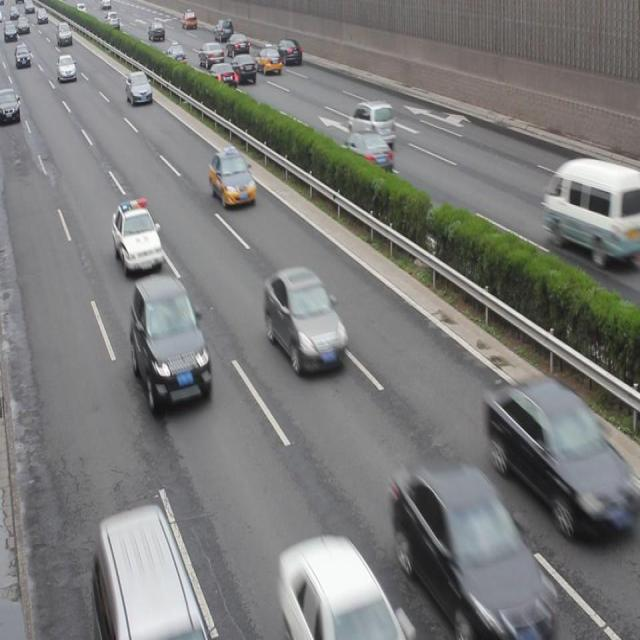car: (392, 458, 541, 640), (487, 375, 617, 529), (132, 272, 212, 413), (264, 265, 347, 377), (111, 200, 162, 276), (209, 145, 256, 212), (341, 129, 394, 178), (348, 98, 395, 146), (126, 70, 152, 108)
truck: (95, 507, 209, 640), (541, 155, 640, 261)
